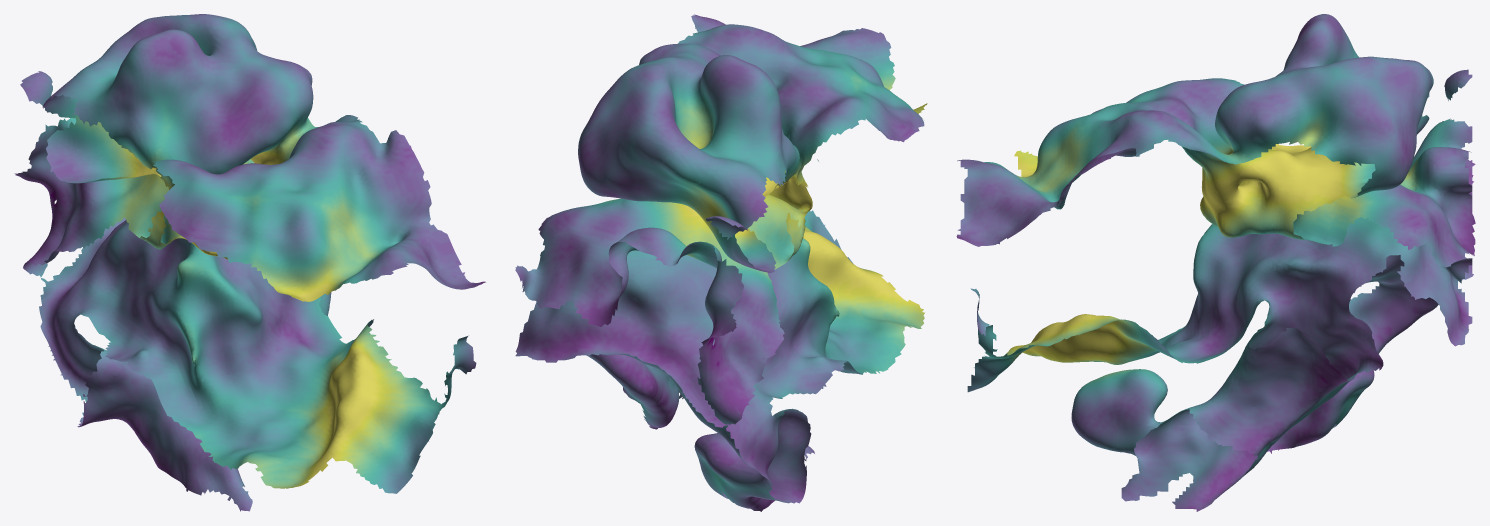
The model's file is crop1026_gap.glb.
The picture shows the model from 3 angles, left to right: view 1: azimuth 30°, elevation 25°; view 2: azimuth 150°, elevation 25°; view 3: azimuth 270°, elevation 25°; orthographic projection. The views are drawn at different scales.
Parts seen in each view (by area): view 1: geometry_0; view 2: geometry_0; view 3: geometry_0.
Part boxes in pixels (x1=…): geometry_0: x1=14, y1=14, x2=485, y2=511; geometry_0: x1=515, y1=14, x2=927, y2=511; geometry_0: x1=956, y1=14, x2=1475, y2=511.
Bounding box in the file's own units: 1130 × 2111 × 2324.
